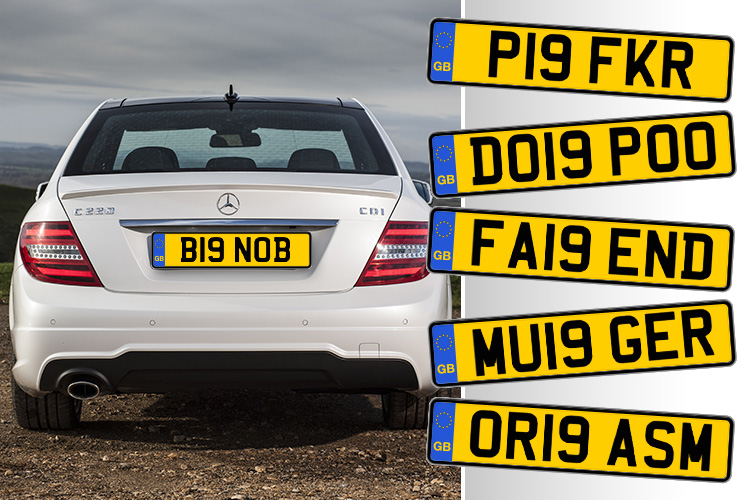malignant: (144, 235, 318, 269)
